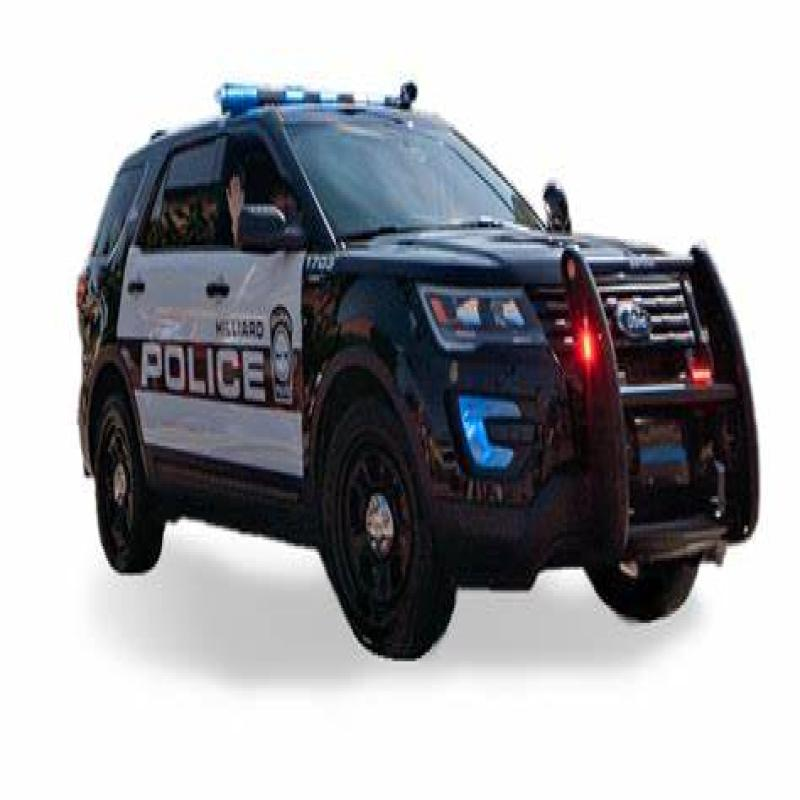AmbulanceSiren: (206, 51, 438, 118)
